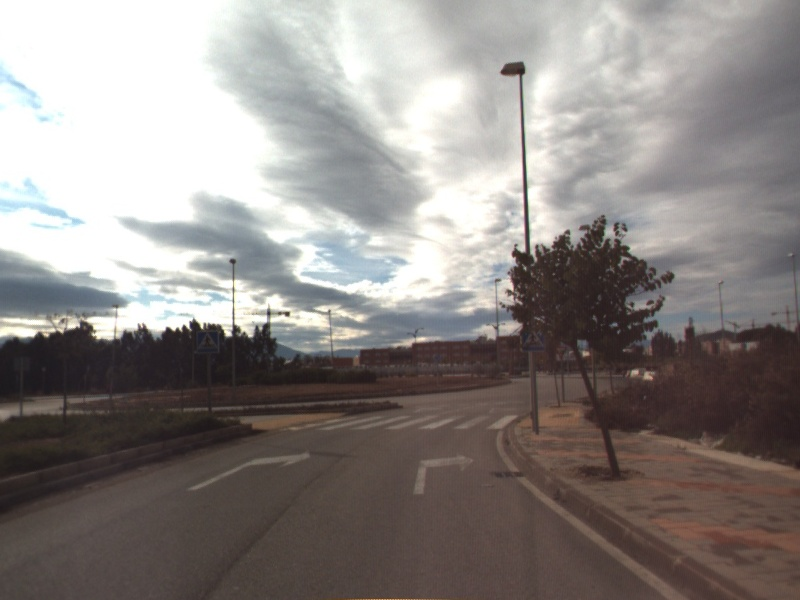RIGHT: (185, 447, 312, 493), (411, 449, 476, 497)
